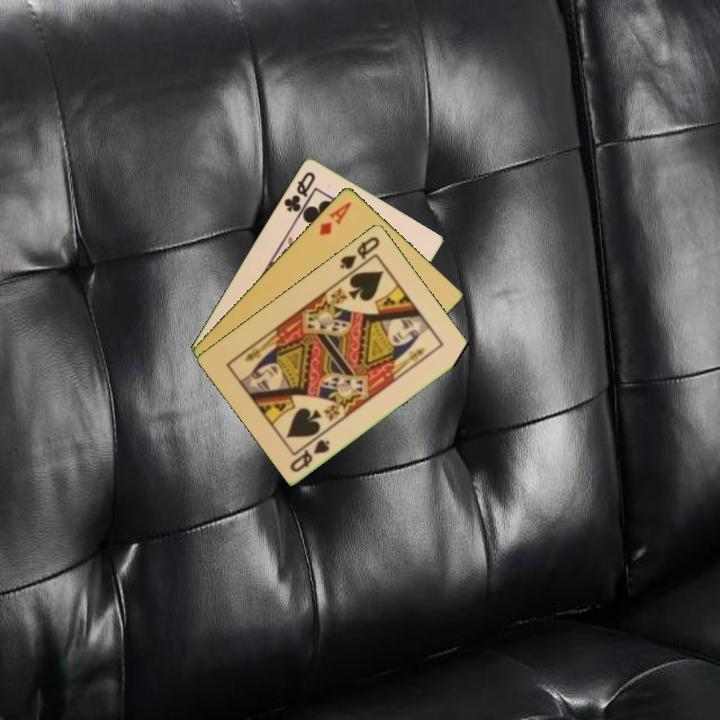Ad: (316, 198, 354, 238)
Qc: (280, 167, 318, 215)
Qs: (336, 232, 383, 272), (286, 436, 333, 475)
